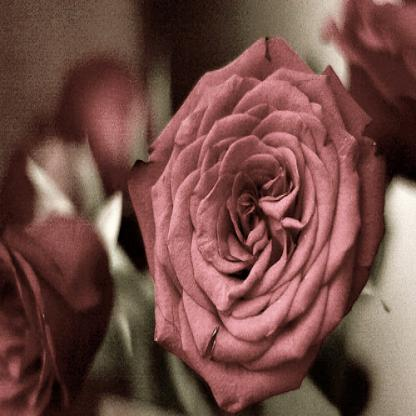ROSE-MAWAR: (103, 29, 394, 410)
